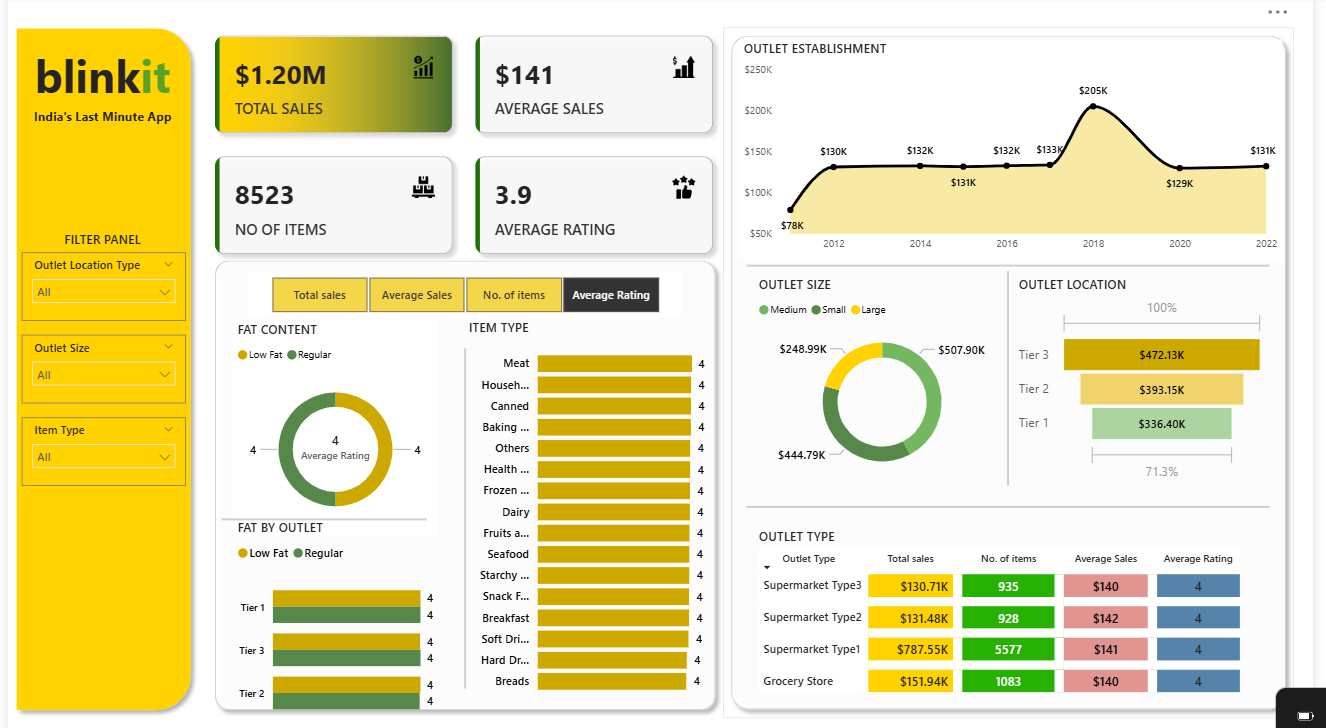

The page's visual inventory and layout, read from the dashboard file:
{"tool":"powerbi","page":{"name":"Page 1","canvas":[1400,800],"ordinal":0},"visuals":[{"type":"shape","box":[0,25.3,205.1,749.4],"z":0},{"type":"textbox","box":[15.2,46.8,173.4,84.8],"z":1000},{"type":"textbox","box":[20.3,115.2,163.3,31.6],"z":2000},{"type":"cardVisual","fields":{"Data":["Table.Total sales","Table.Average Sales","Table.No. of items","Table.Average Rating"]},"box":[205.1,25.3,569.6,269.6],"z":3000},{"type":"shape","box":[212.7,274.7,554.4,500],"z":4000},{"type":"donutChart","title":"FAT CONTENT","fields":{"Y":["Table.Average Rating"],"Category":["BlinkIT Grocery Data.Item Fat Content"]},"box":[241.8,348.1,220.3,230.4],"z":5000},{"type":"slicer","fields":{"Values":["Metrics.Metrics"]},"box":[257,294.9,464.6,50.6],"z":6000},{"type":"cardVisual","fields":{"Data":["Table.Average Rating"]},"box":[293.7,440.5,115.2,84.8],"z":6001},{"type":"clusteredBarChart","title":"FAT BY OUTLET","fields":{"Y":["Table.Average Rating"],"Category":["BlinkIT Grocery Data.Outlet Location Type"],"Series":["BlinkIT Grocery Data.Item Fat Content"]},"box":[241.8,560.8,220.3,230.4],"z":6002},{"type":"shape","box":[229.1,554.4,220.3,12.7],"z":6003},{"type":"shape","box":[483.5,378.5,12.7,364.6],"z":6004},{"type":"barChart","title":"ITEM TYPE","fields":{"Category":["BlinkIT Grocery Data.Item Type"],"Y":["Table.Average Rating"]},"box":[489.9,345.6,263.3,412.7],"z":6005},{"type":"shape","box":[767.1,34.2,612.7,740.5],"z":6006},{"type":"lineChart","title":"OUTLET ESTABLISHMENT","fields":{"Y":["Table.Total sales"],"Category":["BlinkIT Grocery Data.Outlet Establishment Year"]},"box":[783.5,46.8,582.3,235.4],"z":6007},{"type":"shape","box":[792.4,282.3,560.8,12.7],"z":6008},{"type":"donutChart","title":"OUTLET SIZE","fields":{"Y":["Table.Total sales"],"Category":["BlinkIT Grocery Data.Outlet Size"]},"box":[800,300,274.7,225.3],"z":6009},{"type":"shape","box":[1062,294.9,21.5,230.4],"z":6010},{"type":"funnel","title":"OUTLET LOCATION","fields":{"Y":["Table.Total sales"],"Category":["BlinkIT Grocery Data.Outlet Location Type"]},"box":[1079.7,300,273.4,225.3],"z":6011},{"type":"shape","box":[792.4,541.8,560.8,12.7],"z":6012},{"type":"pivotTable","title":"OUTLET TYPE","fields":{"Rows":["BlinkIT Grocery Data.Outlet Type"],"Values":["Table.Total sales","Table.No. of items","Table.Average Sales","Table.Average Rating"]},"box":[800,569.6,564.6,205.1],"z":6013},{"type":"slicer","fields":{"Values":["BlinkIT Grocery Data.Outlet Location Type"]},"box":[15.2,274.7,175.9,73.4],"z":6014},{"type":"slicer","fields":{"Values":["BlinkIT Grocery Data.Outlet Size"]},"box":[15.2,363.3,175.9,73.4],"z":6015},{"type":"slicer","fields":{"Values":["BlinkIT Grocery Data.Item Type"]},"box":[15.2,451.9,175.9,73.4],"z":6016},{"type":"textbox","box":[16.5,246.8,170.9,27.8],"z":6017}]}

Visuals, with their boxes on the page's 1400x800 design canvas (x1, y1, x2, y2). These are canvas units, not pixel positions in the 1326x728 screenshot, which may show the page scaled, cropped or inside an application window:
shape: 0,25,205,775
textbox: 15,47,189,132
textbox: 20,115,184,147
cardVisual - Table.Total sales x Table.Average Sales: 205,25,775,295
shape: 213,275,767,775
"FAT CONTENT" donutChart: 242,348,462,578
slicer - Metrics.Metrics: 257,295,722,346
cardVisual - Table.Average Rating: 294,440,409,525
"FAT BY OUTLET" clusteredBarChart: 242,561,462,791
shape: 229,554,449,567
shape: 484,378,496,743
"ITEM TYPE" barChart: 490,346,753,758
shape: 767,34,1380,775
"OUTLET ESTABLISHMENT" lineChart: 784,47,1366,282
shape: 792,282,1353,295
"OUTLET SIZE" donutChart: 800,300,1075,525
shape: 1062,295,1084,525
"OUTLET LOCATION" funnel: 1080,300,1353,525
shape: 792,542,1353,554
"OUTLET TYPE" pivotTable: 800,570,1365,775
slicer - BlinkIT Grocery Data.Outlet Location Type: 15,275,191,348
slicer - BlinkIT Grocery Data.Outlet Size: 15,363,191,437
slicer - BlinkIT Grocery Data.Item Type: 15,452,191,525
textbox: 16,247,187,275
